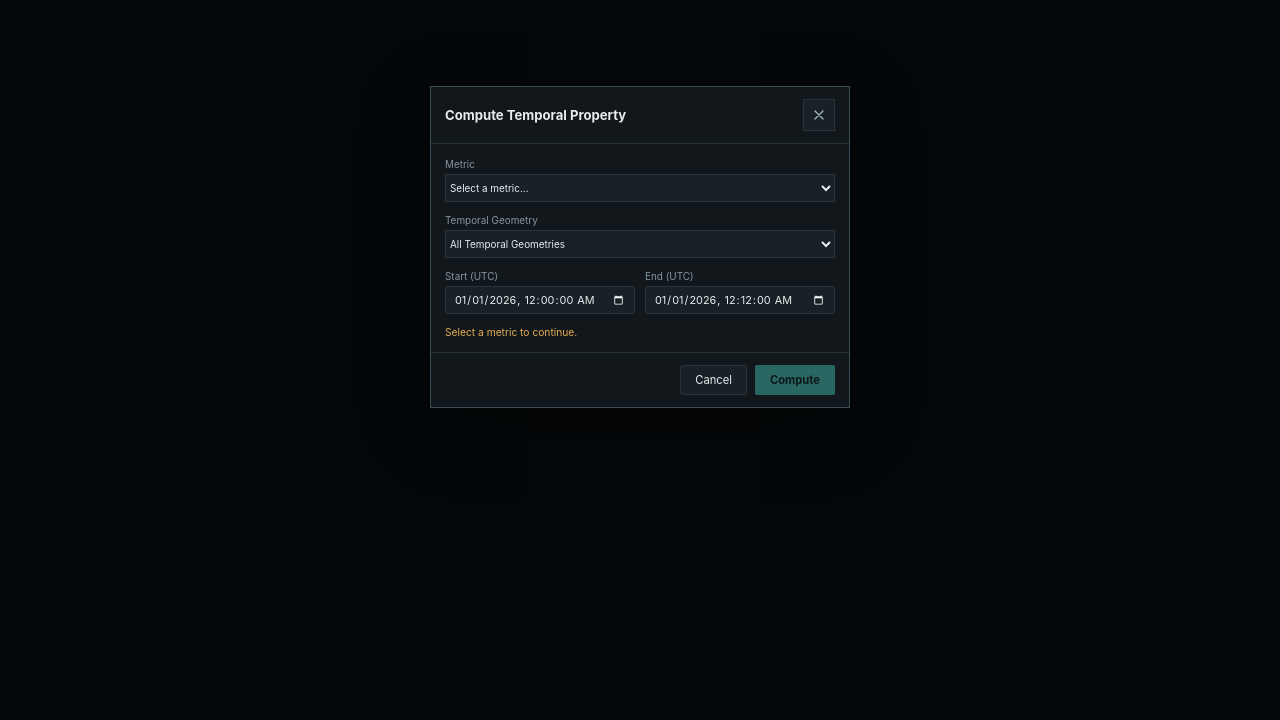
Test: ComputeTemporalPropertyDialog › does not silently close when every selected geometry is skipped for having no overlap with the chosen range
Select "Velocity" in the dropdown labelled "Metric": (640, 188) [445,174,835,202]
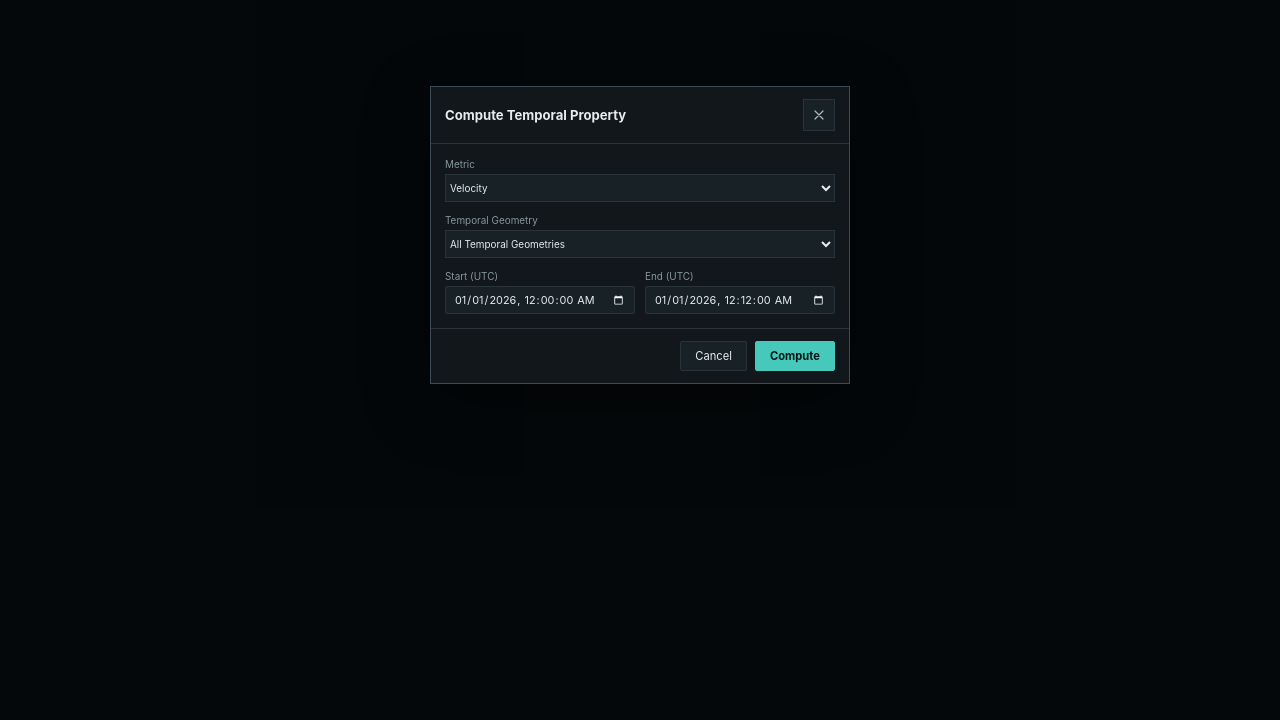
Click the button "Compute": (795, 356) [755,341,835,371]
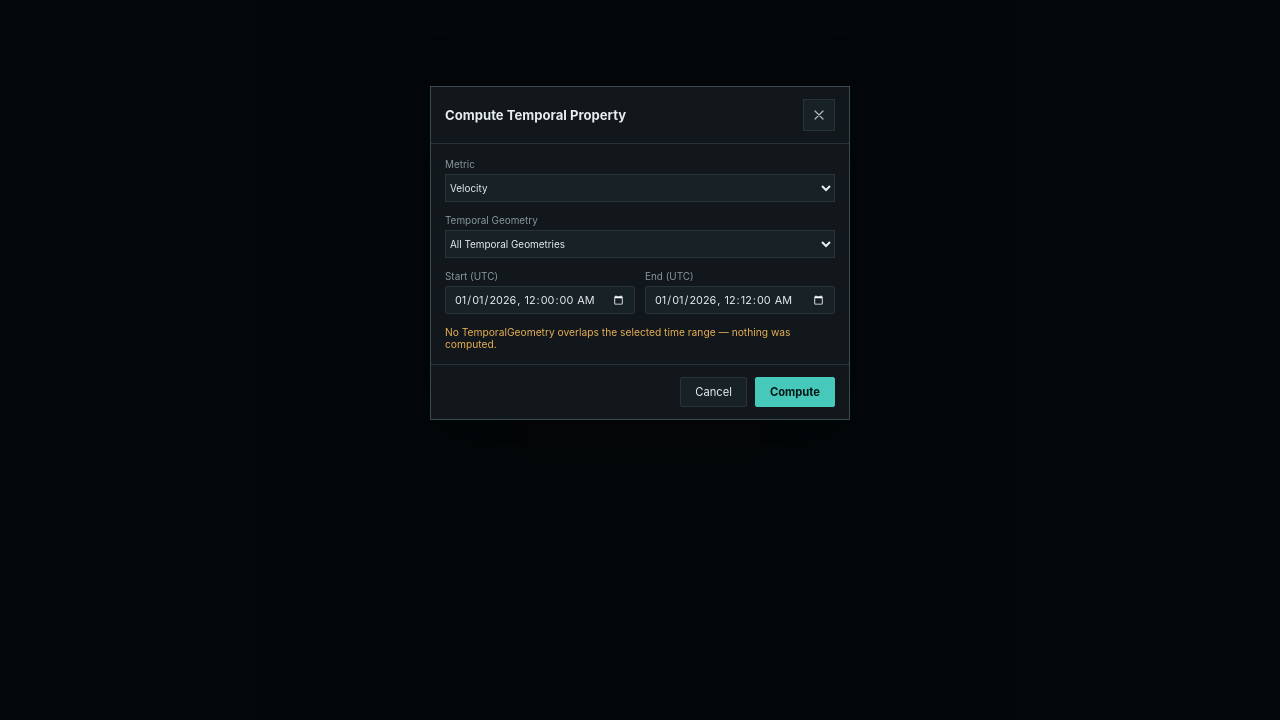
Expected: the text "No TemporalGeometry overlaps the selected time range — nothing was computed." is shown, [445,326,835,350]
